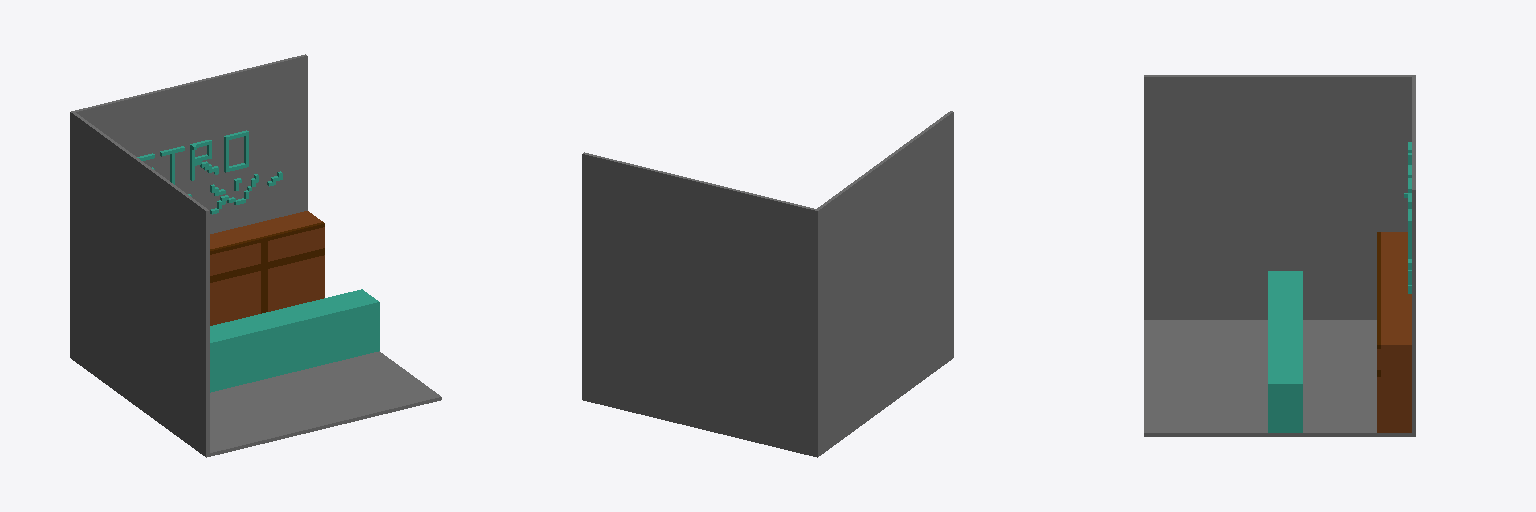
3 views of the same model, side by side, from view 1: azimuth 30°, elevation 25°; view 2: azimuth 150°, elevation 25°; view 3: azimuth 270°, elevation 25° (orthographic).
Visible parts, largest first — view 1: object 1; view 2: object 1; view 3: object 1.
Part boxes in pixels (x1,y1,x2,y2): object 1: (70, 54, 441, 457); object 1: (582, 111, 953, 457); object 1: (1144, 75, 1415, 436).
Size of the model in its own units: 7 by 7 by 7.
Materials: 1 (1 with a texture image).